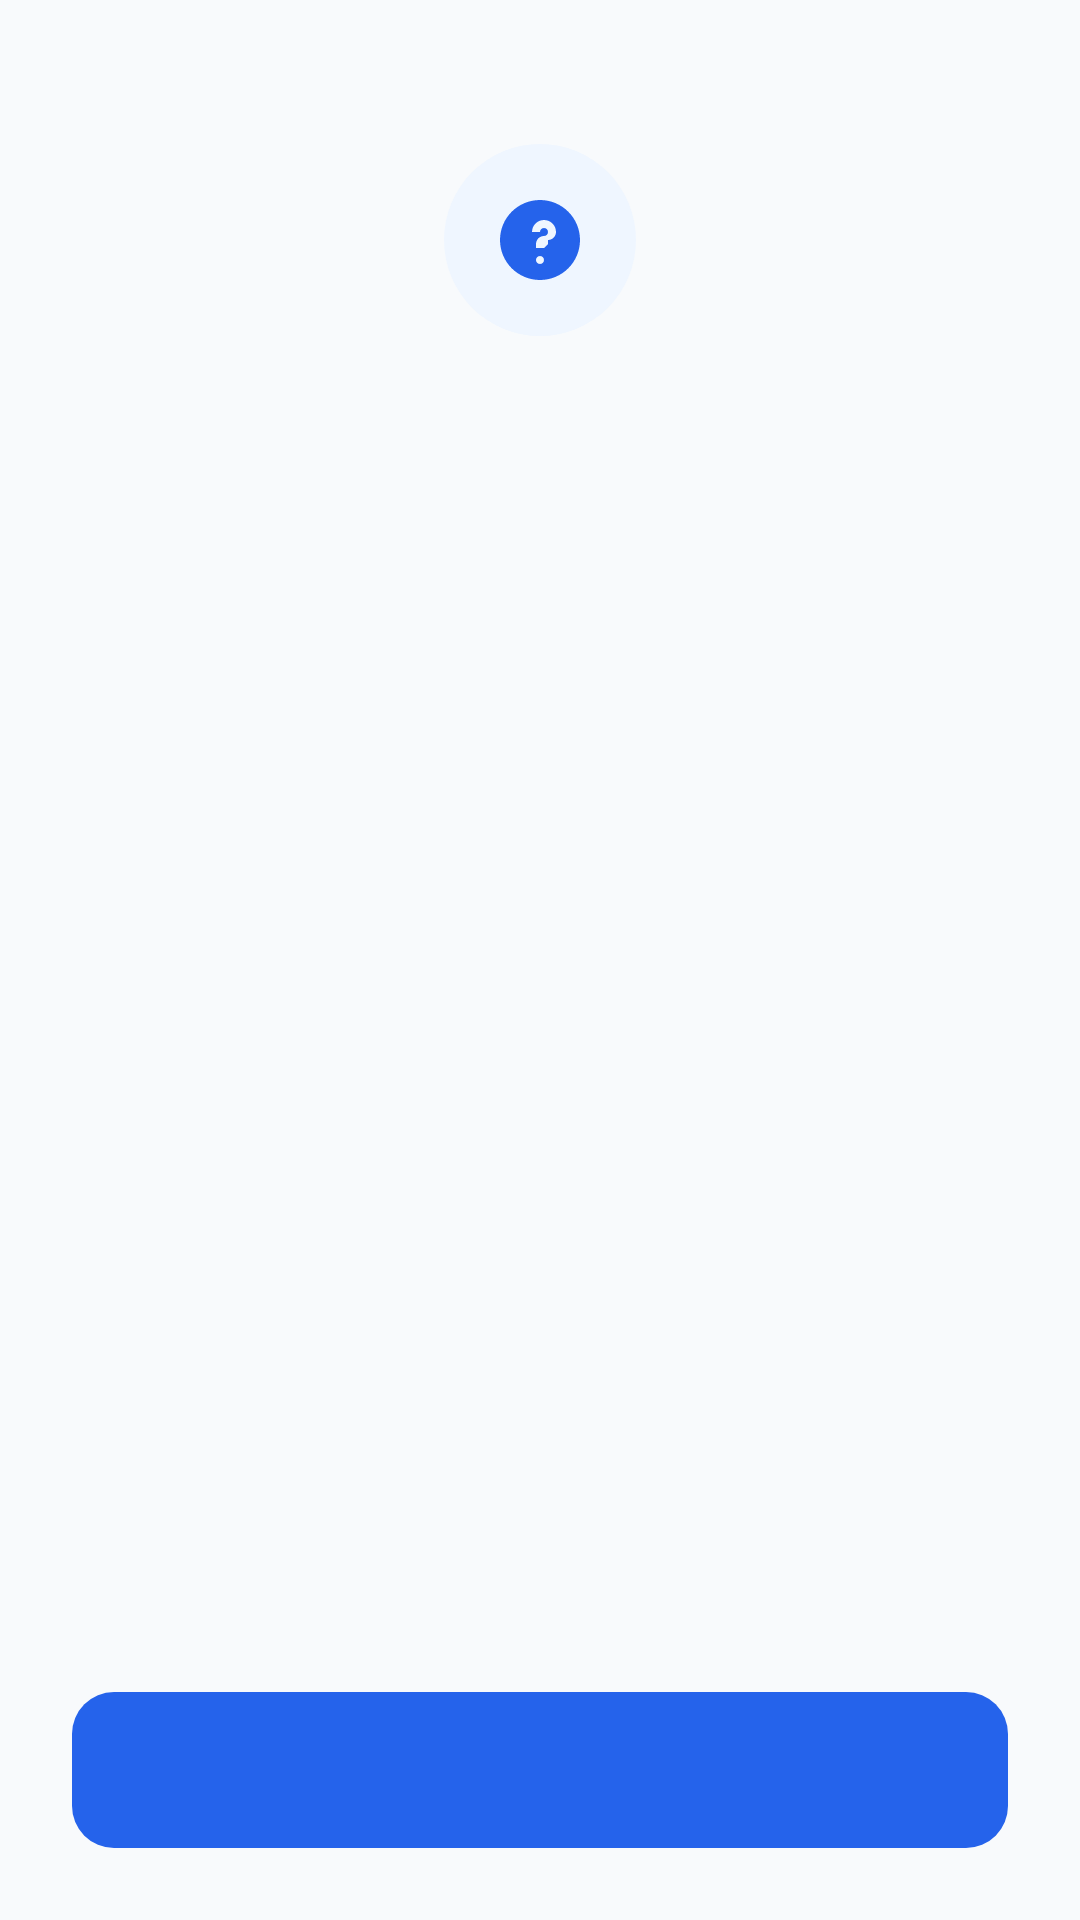

Where icons sit on this 1080 x 1920 app screen, as (x1, y1, x2, y2):
question: (500, 200, 580, 280)
